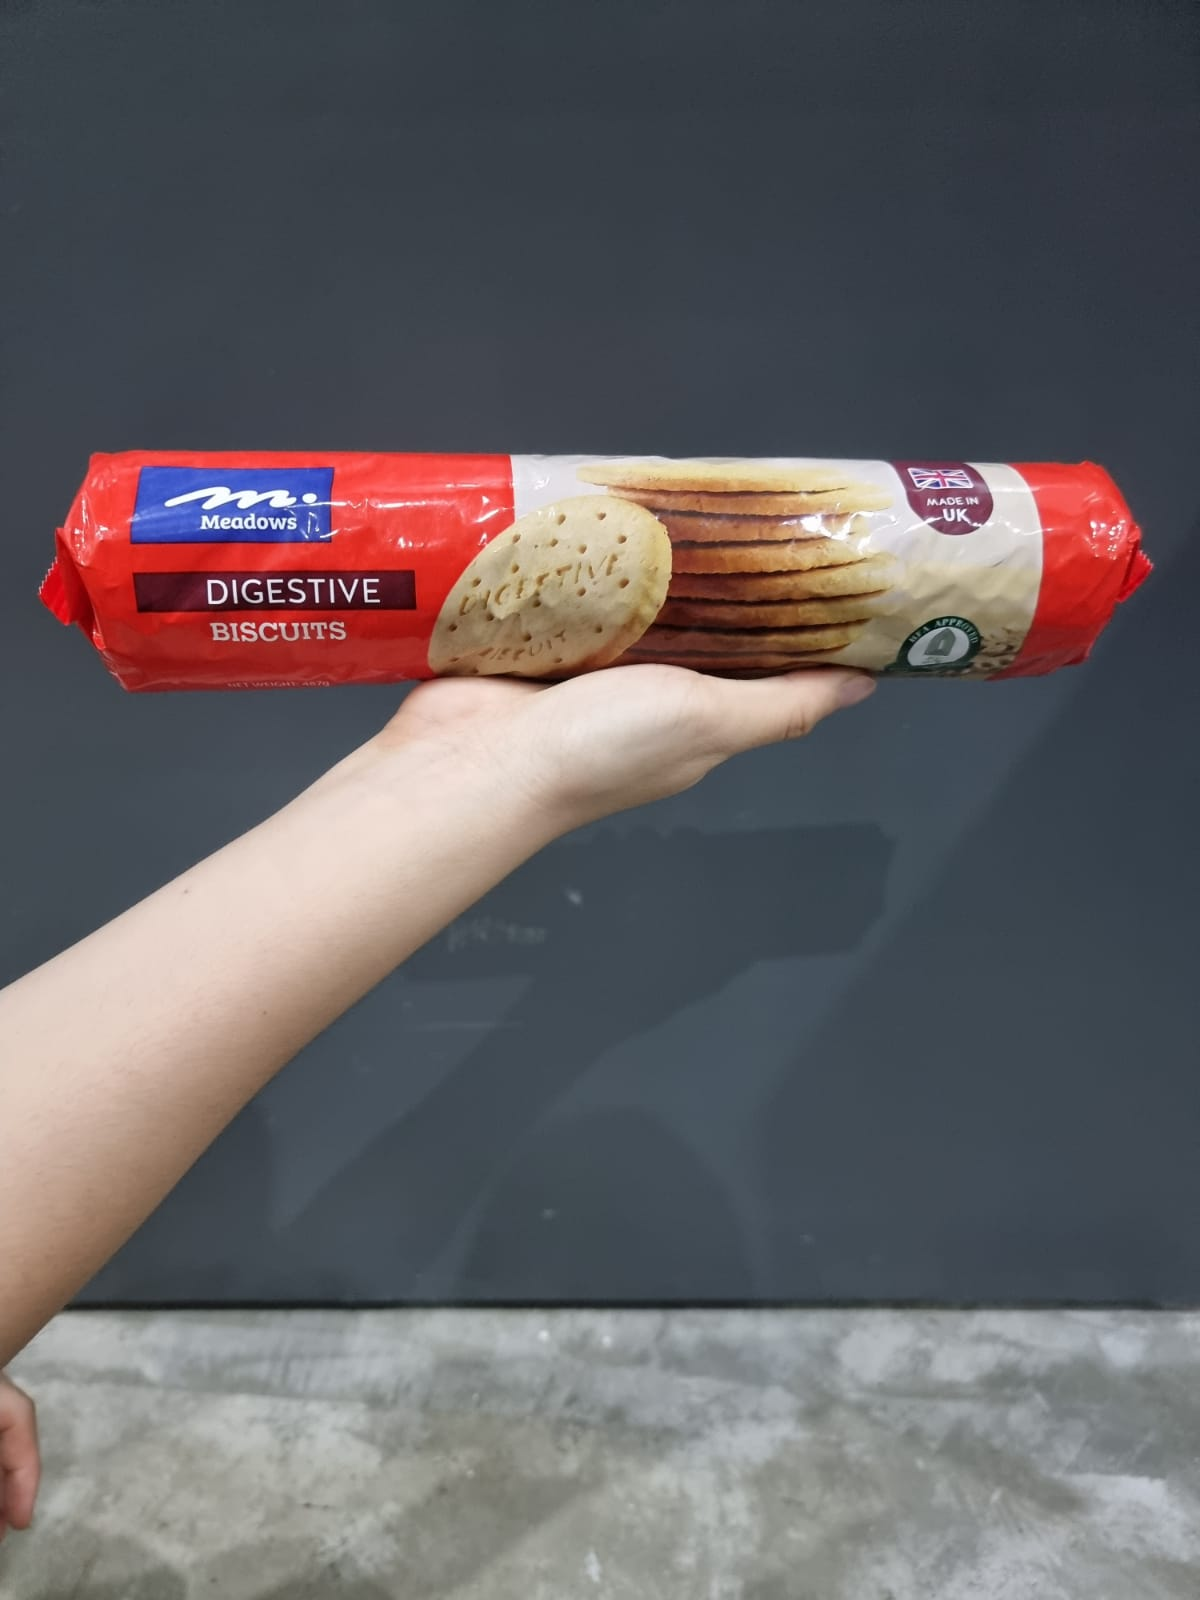Biscuits: (102, 452, 1111, 678)
